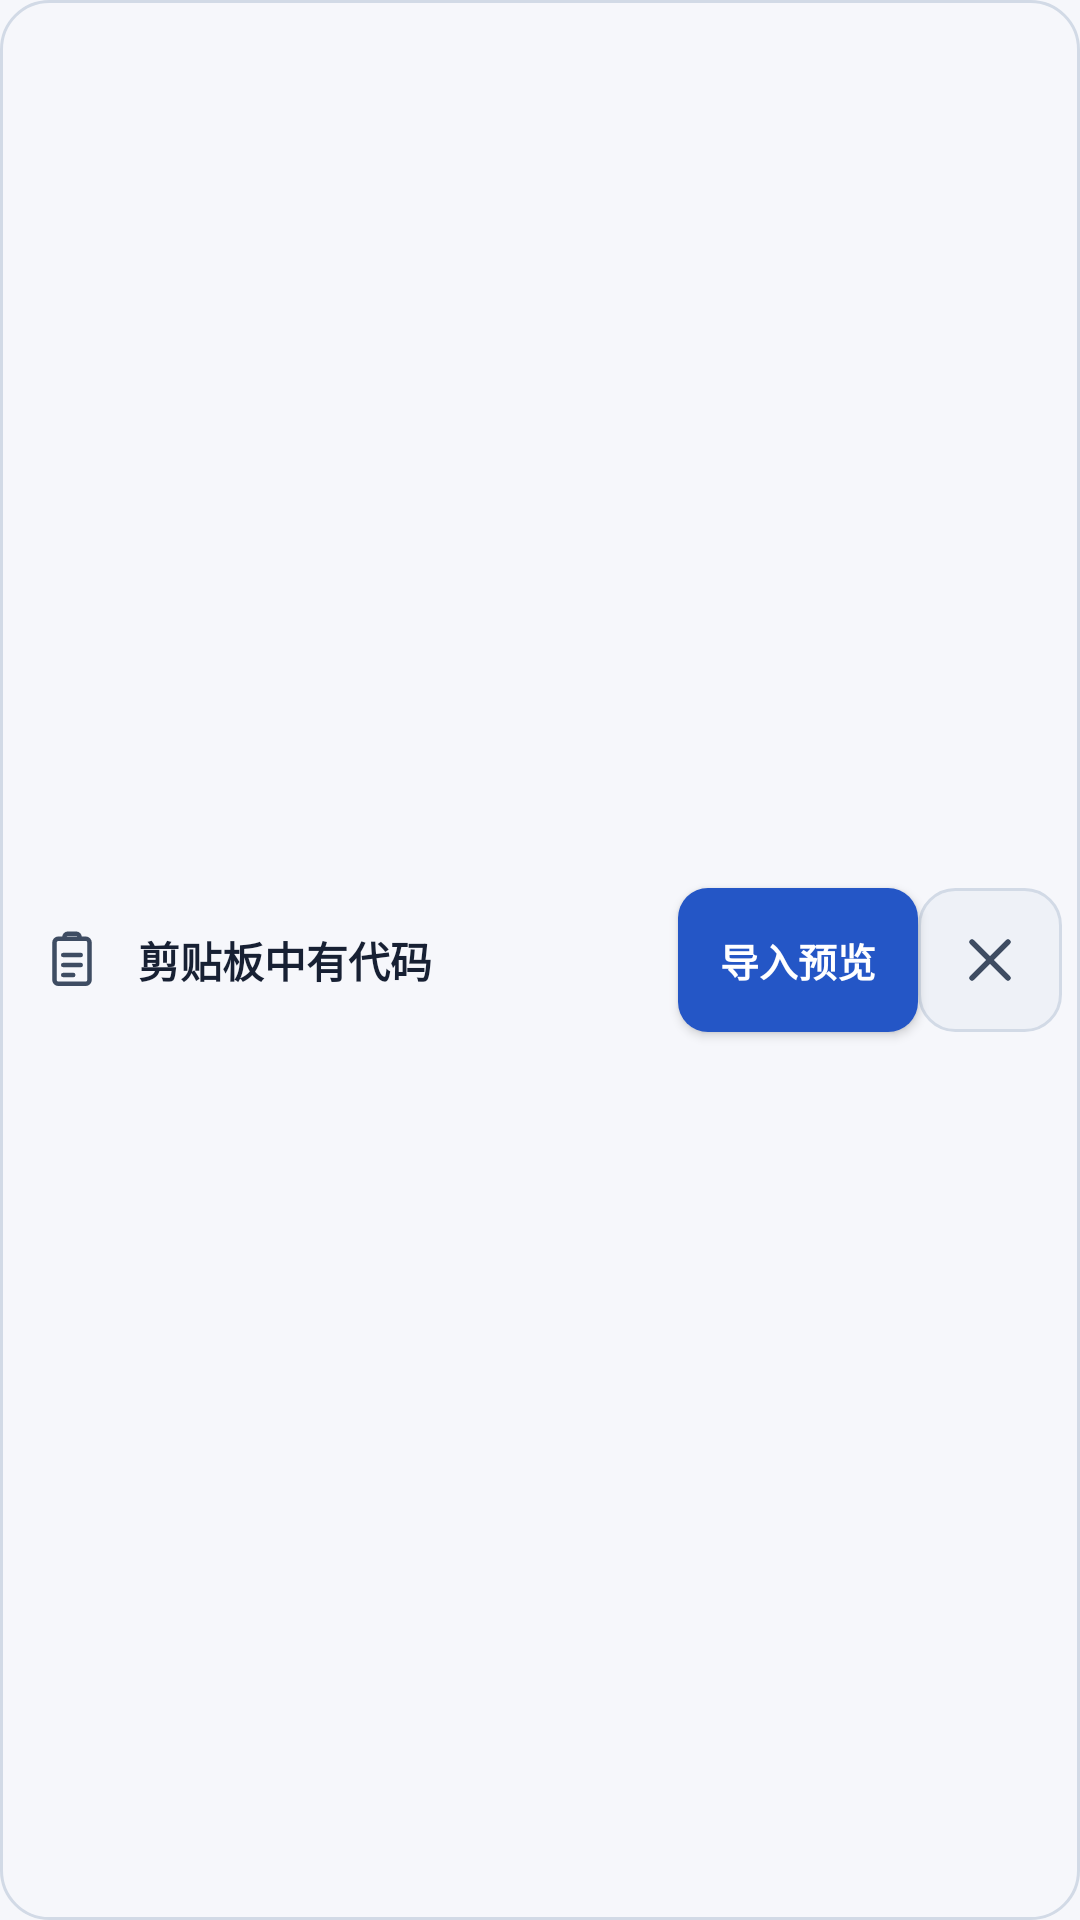

Named icons in this screenshot (1080 x 1920) and their centers, [x,y]:
clipboard in: [72,958]
忽略这次剪贴板内容: [990,960]
